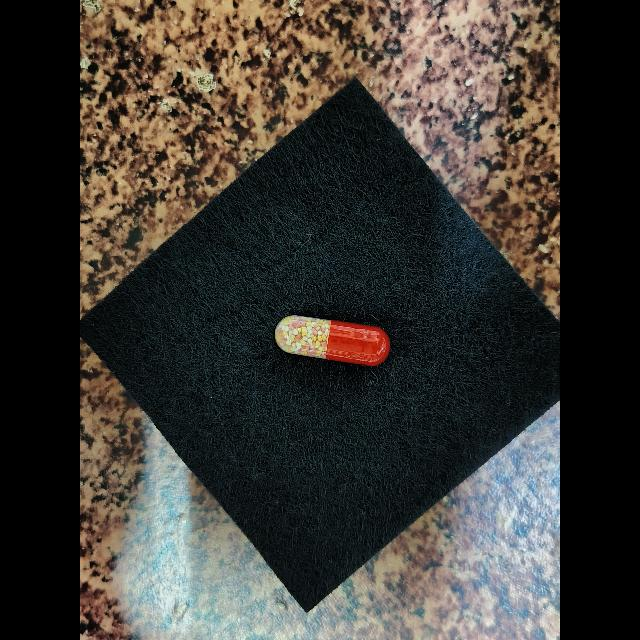Intact Capsule: (275, 315, 390, 366)
